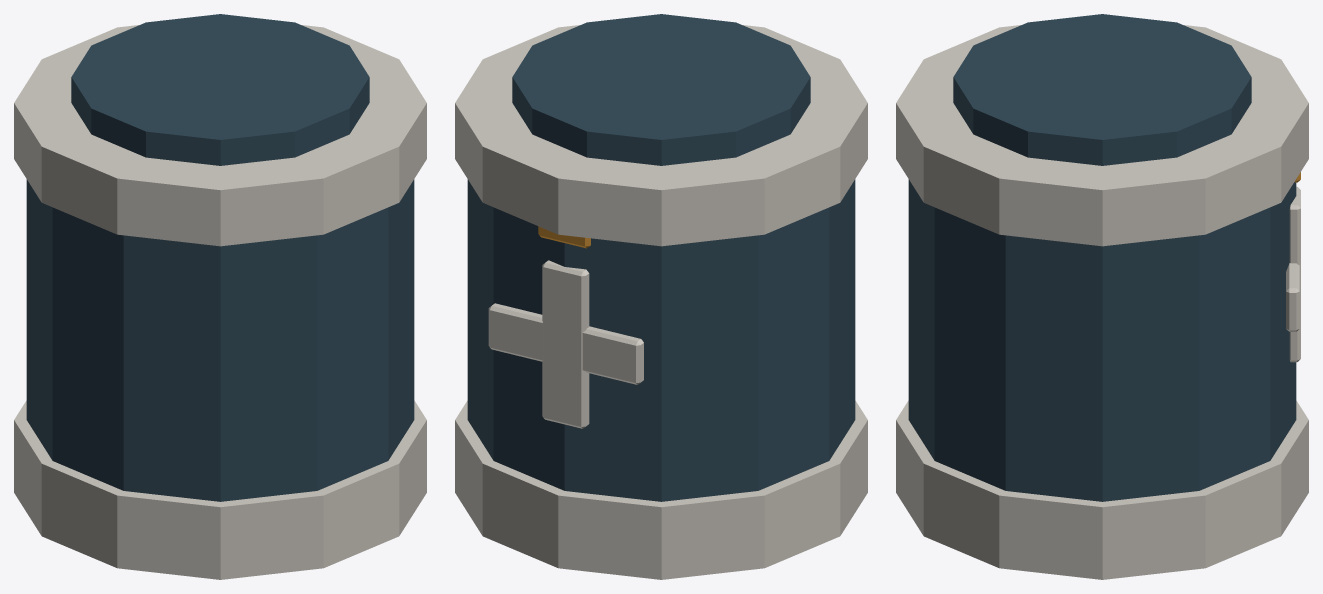
The model's file is repair-cell.glb.
3 renders of one model, left to right at view 1: azimuth 30°, elevation 25°; view 2: azimuth 150°, elevation 25°; view 3: azimuth 270°, elevation 25°, orthographic.
Parts seen in each view (by area): view 1: repair-cell; view 2: repair-cell; view 3: repair-cell.
Boxes of the visible parts, x1,y1,x2,y2 form: repair-cell: (14, 14, 426, 579); repair-cell: (455, 14, 867, 579); repair-cell: (896, 14, 1308, 579).
Bounding box in the file's own units: 0.36 × 0.4 × 0.36.
